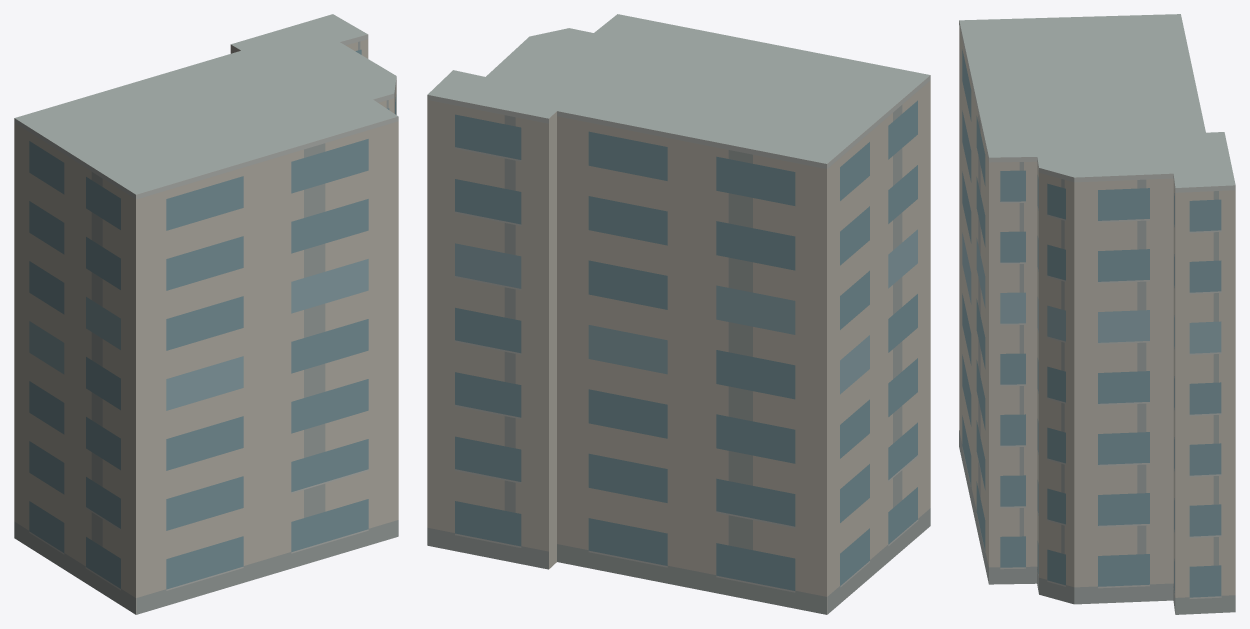
The model's file is survey-upis-33037993.glb.
3 views of the same model, side by side, from view 1: azimuth 30°, elevation 25°; view 2: azimuth 150°, elevation 25°; view 3: azimuth 270°, elevation 25° (orthographic). The views are drawn at different scales.
Parts seen in each view (by area): view 1: survey-upis-33037993.tmp; view 2: survey-upis-33037993.tmp; view 3: survey-upis-33037993.tmp.
Part boxes in pixels (x1,y1,x2,y2): survey-upis-33037993.tmp: (14, 14, 398, 614); survey-upis-33037993.tmp: (427, 14, 930, 614); survey-upis-33037993.tmp: (959, 14, 1235, 614).
Size of the model in its own units: 18.73 by 21.4 by 12.57.
